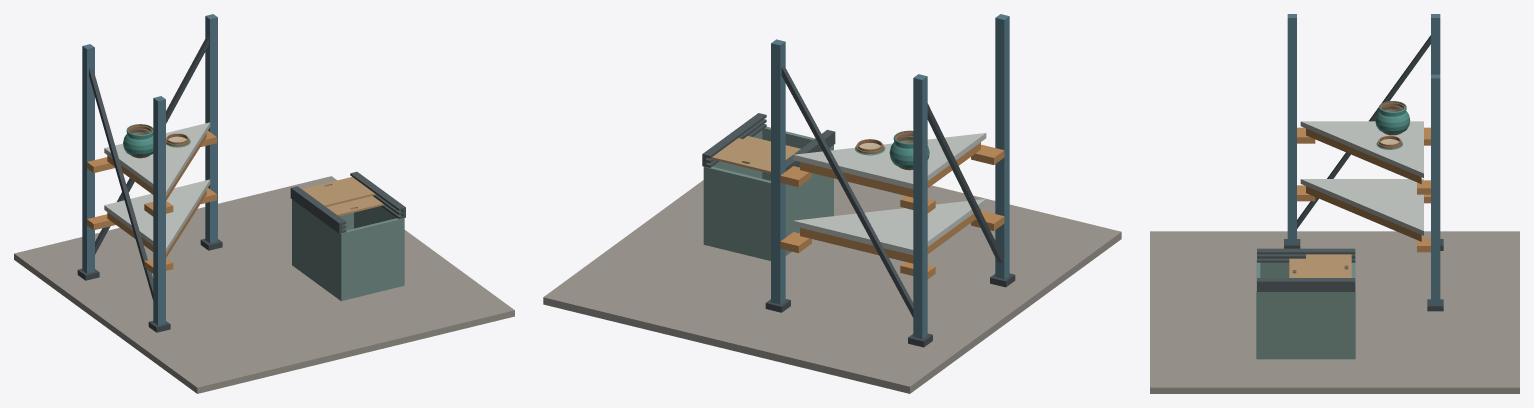
3 views of the same model, side by side, from view 1: azimuth 30°, elevation 25°; view 2: azimuth 150°, elevation 25°; view 3: azimuth 270°, elevation 25° (orthographic). The views are drawn at different scales.
Parts seen in each view (by area): view 1: SCENE_ONLY__DisplayFloor, chest__WholeDeepClayChestShell, rack__FullHeightPost_3, rack__FullHeightPost_1, rack__LowerWholeCornerShelf, rack__FullHeightPost_2, rack__UpperWholeCornerShelf, rack__BackYCompleteDiagonalBrace, chest__UpperRearPiercedCover, chest__LeftWholeTwinChannelRail, jar__Jar_ThickBody, rack__BackXCompleteDiagonalBrace (+4 smaller); view 2: SCENE_ONLY__DisplayFloor, chest__WholeDeepClayChestShell, rack__LowerWholeCornerShelf, rack__FullHeightPost_1, rack__FullHeightPost_2, rack__FullHeightPost_3, rack__UpperWholeCornerShelf, rack__BackXCompleteDiagonalBrace, chest__UpperRearPiercedCover, rack__BackYCompleteDiagonalBrace, rack__LowerWholeTriangularUnderframe, rack__UpperWholeTriangularUnderframe (+3 smaller); view 3: SCENE_ONLY__DisplayFloor, chest__WholeDeepClayChestShell, rack__LowerWholeCornerShelf, rack__UpperWholeCornerShelf, rack__FullHeightPost_2, rack__FullHeightPost_3, chest__RightWholeTwinChannelRail, chest__UpperRearPiercedCover, chest__LeftWholeTwinChannelRail, jar__Jar_ThickBody, rack__BackYCompleteDiagonalBrace, rack__LowerWholeTriangularUnderframe (+3 smaller).
Boxes of the visible parts, x1,y1,x2,y2 form: SCENE_ONLY__DisplayFloor: (14,176,514,393); chest__WholeDeepClayChestShell: (292,199,404,300); rack__FullHeightPost_3: (153,96,165,325); rack__FullHeightPost_1: (82,44,94,273); rack__LowerWholeCornerShelf: (104,179,210,253); rack__FullHeightPost_2: (205,14,217,243); rack__UpperWholeCornerShelf: (104,122,210,196); rack__BackYCompleteDiagonalBrace: (89,67,153,300); chest__UpperRearPiercedCover: (302,177,376,206); chest__LeftWholeTwinChannelRail: (290,186,346,233); jar__Jar_ThickBody: (123,124,153,158); rack__BackXCompleteDiagonalBrace: (95,36,208,254); SCENE_ONLY__DisplayFloor: (543,178,1121,393); chest__WholeDeepClayChestShell: (703,126,833,260); rack__LowerWholeCornerShelf: (793,199,986,255); rack__FullHeightPost_1: (913,74,927,339); rack__FullHeightPost_2: (771,39,785,304); rack__FullHeightPost_3: (995,14,1009,278); rack__UpperWholeCornerShelf: (793,133,986,189); rack__BackXCompleteDiagonalBrace: (781,65,913,317); chest__UpperRearPiercedCover: (708,138,795,173); rack__BackYCompleteDiagonalBrace: (927,103,1002,262); rack__LowerWholeTriangularUnderframe: (800,208,980,263); rack__UpperWholeTriangularUnderframe: (800,142,980,197); SCENE_ONLY__DisplayFloor: (1150,231,1519,393); chest__WholeDeepClayChestShell: (1256,260,1355,359); rack__LowerWholeCornerShelf: (1300,179,1423,235); rack__UpperWholeCornerShelf: (1300,121,1423,177); rack__FullHeightPost_2: (1431,74,1440,304); rack__FullHeightPost_3: (1287,14,1296,244); chest__RightWholeTwinChannelRail: (1257,278,1355,291); chest__UpperRearPiercedCover: (1306,254,1351,277); chest__LeftWholeTwinChannelRail: (1257,248,1355,262); jar__Jar_ThickBody: (1375,101,1410,135); rack__BackYCompleteDiagonalBrace: (1297,35,1430,228); rack__LowerWholeTriangularUnderframe: (1306,186,1421,241).
Bounding box in the file's own units: 3.2 × 2.27 × 3.2.
